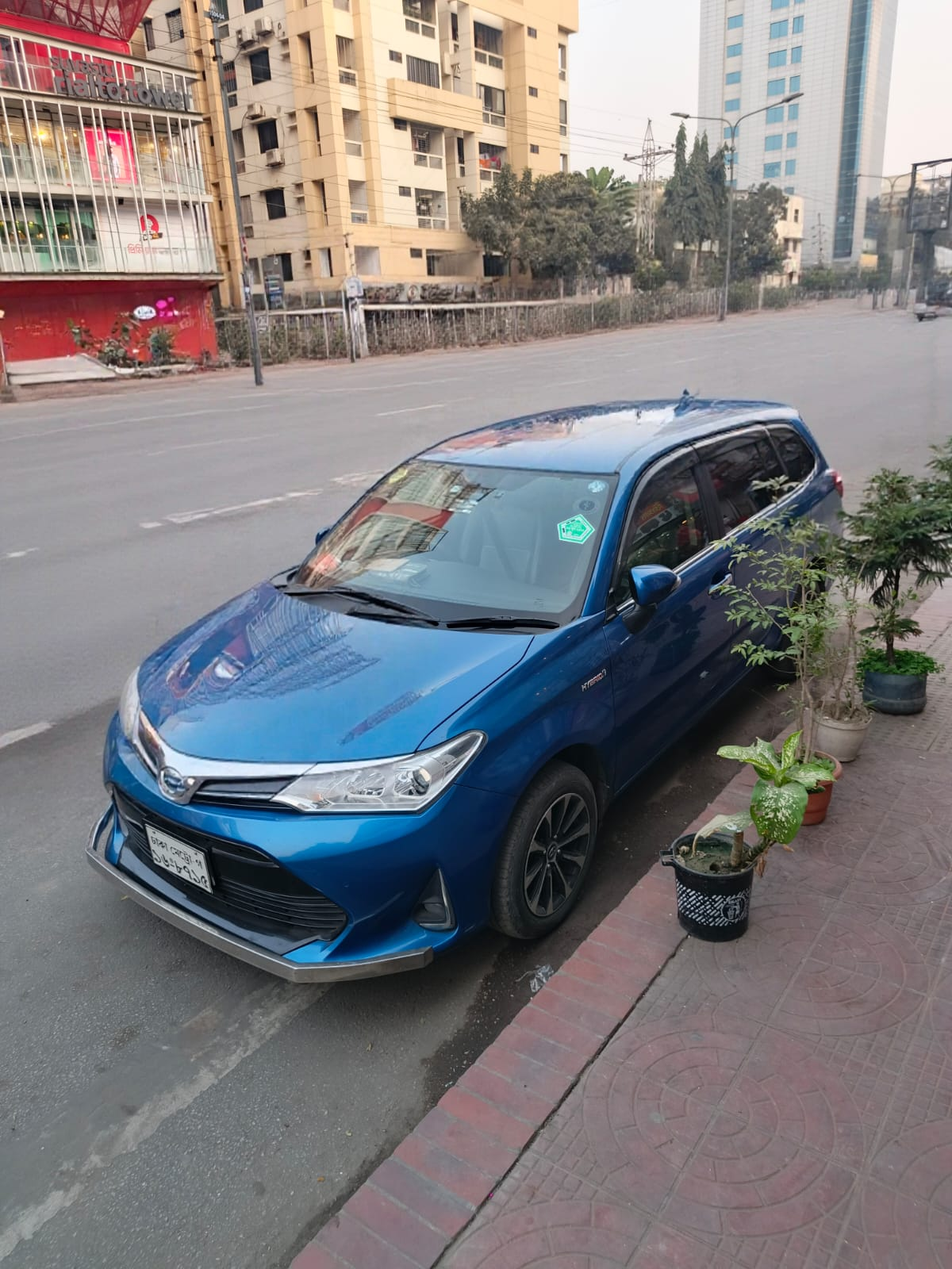private car: (63, 374, 859, 986)
